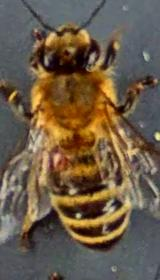varroa_mite: (38, 141, 78, 177)
